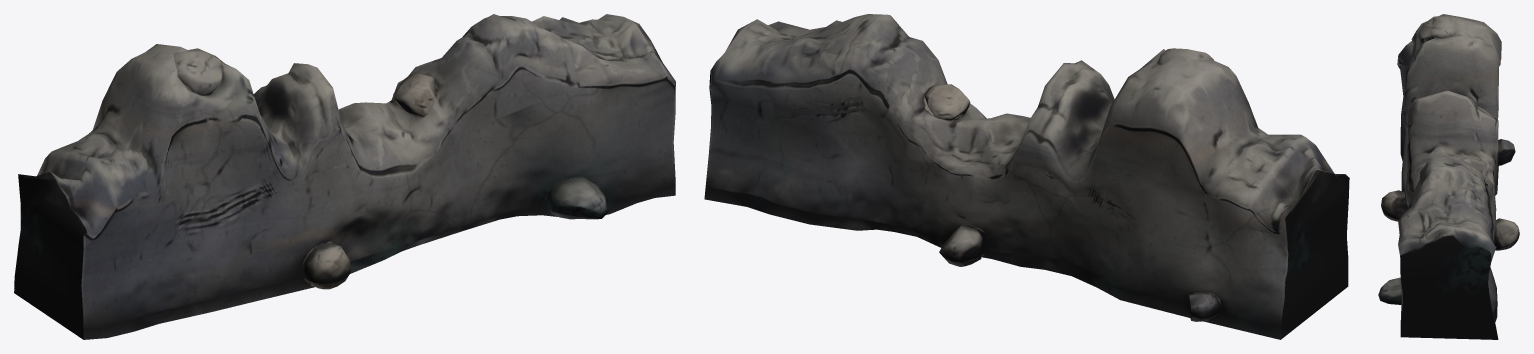
The model's file is cavern_wall_low.glb.
3 renders of one model, left to right at view 1: azimuth 30°, elevation 25°; view 2: azimuth 150°, elevation 25°; view 3: azimuth 270°, elevation 25°, orthographic. The views are drawn at different scales.
Parts seen in each view (by area): view 1: cavern_wall_low; view 2: cavern_wall_low; view 3: cavern_wall_low.
Part boxes in pixels (x1=…): cavern_wall_low: x1=14, y1=14, x2=675, y2=339; cavern_wall_low: x1=704, y1=14, x2=1349, y2=339; cavern_wall_low: x1=1378, y1=14, x2=1519, y2=339.
Size of the model in its own units: 4 by 1.53 by 1.18.
Materials: 1 (1 with a texture image).
